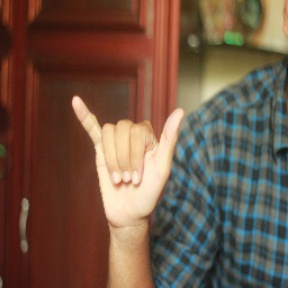J: (62, 90, 192, 219)
